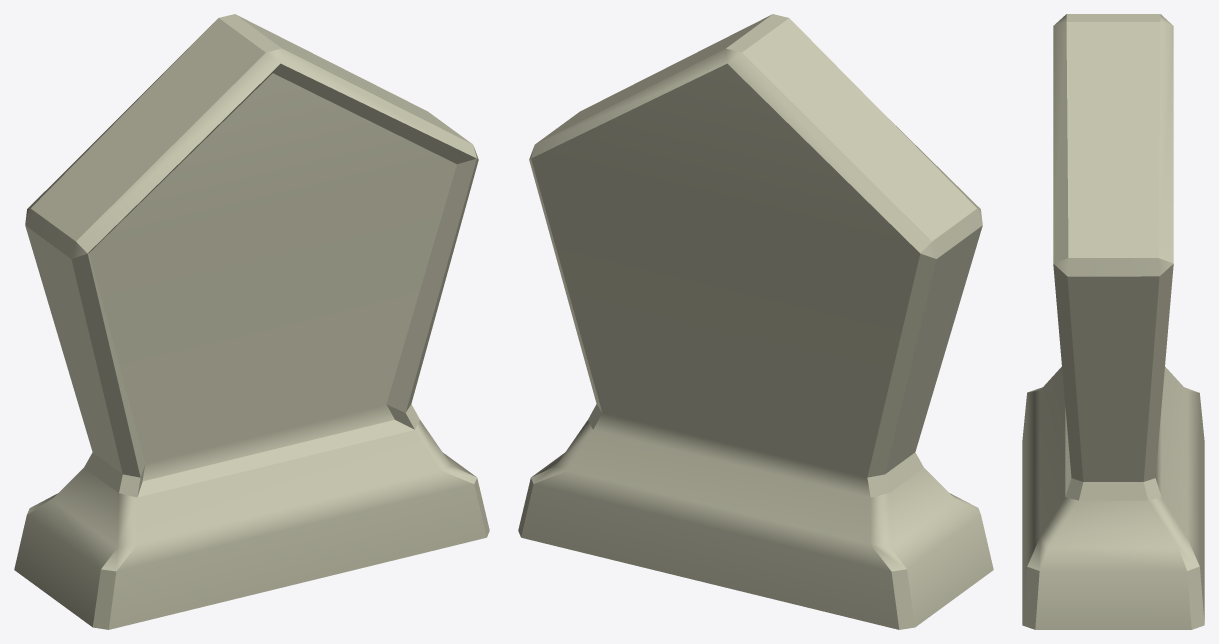
Rendered from Lapida4.fbx.
3 renders of one model, left to right at view 1: azimuth 30°, elevation 25°; view 2: azimuth 150°, elevation 25°; view 3: azimuth 270°, elevation 25°, orthographic.
Parts seen in each view (by area): view 1: Lapida4; view 2: Lapida4; view 3: Lapida4.
Part boxes in pixels (x1=…): Lapida4: x1=14, y1=14, x2=489, y2=629; Lapida4: x1=518, y1=14, x2=993, y2=629; Lapida4: x1=1022, y1=14, x2=1204, y2=629.
Size of the model in its own units: 88.4 by 107 by 34.43.
